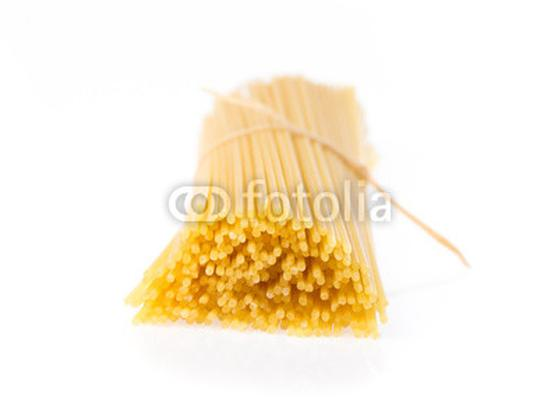spaghetti: (162, 78, 405, 338)
